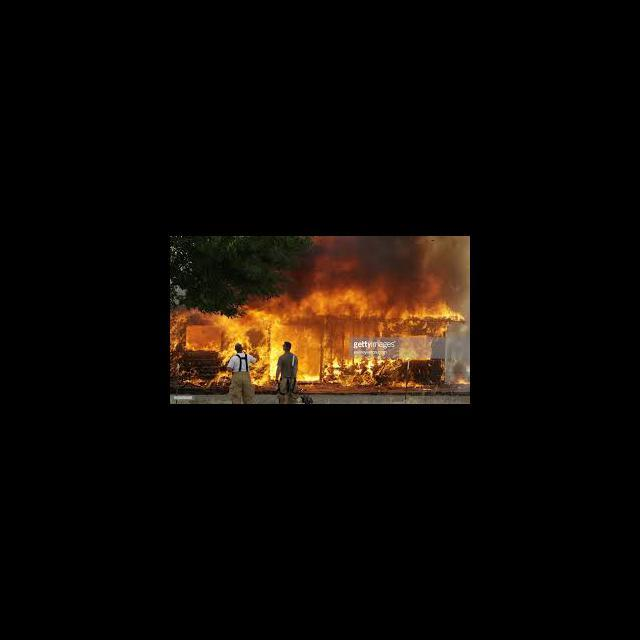Fire: (171, 308, 470, 344), (316, 236, 460, 306), (302, 356, 404, 390), (172, 346, 226, 388), (240, 290, 316, 308), (256, 346, 275, 384), (296, 345, 352, 356)
